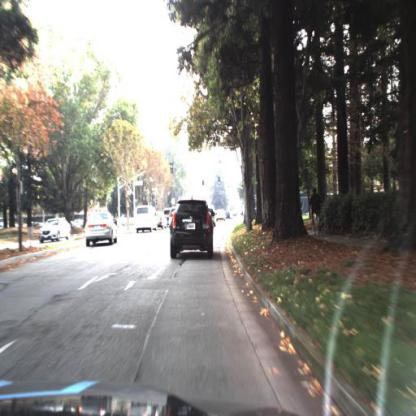biker: (310, 187, 323, 238)
car: (170, 195, 217, 262), (83, 209, 120, 246), (36, 217, 72, 246), (135, 202, 157, 236), (135, 203, 156, 232), (156, 211, 170, 234), (214, 208, 228, 224)
